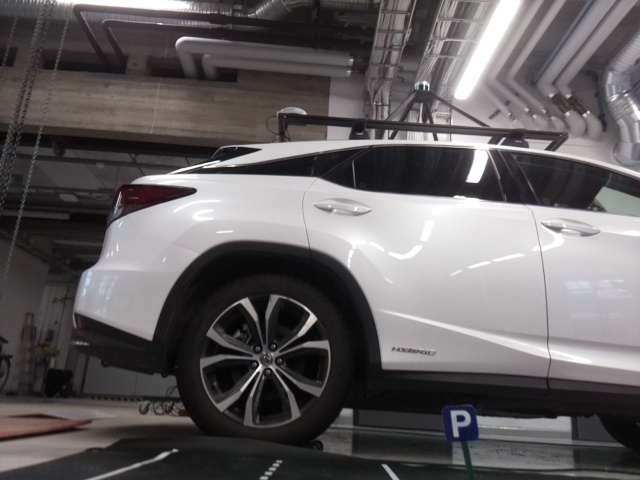Parking: (443, 406, 478, 441)
